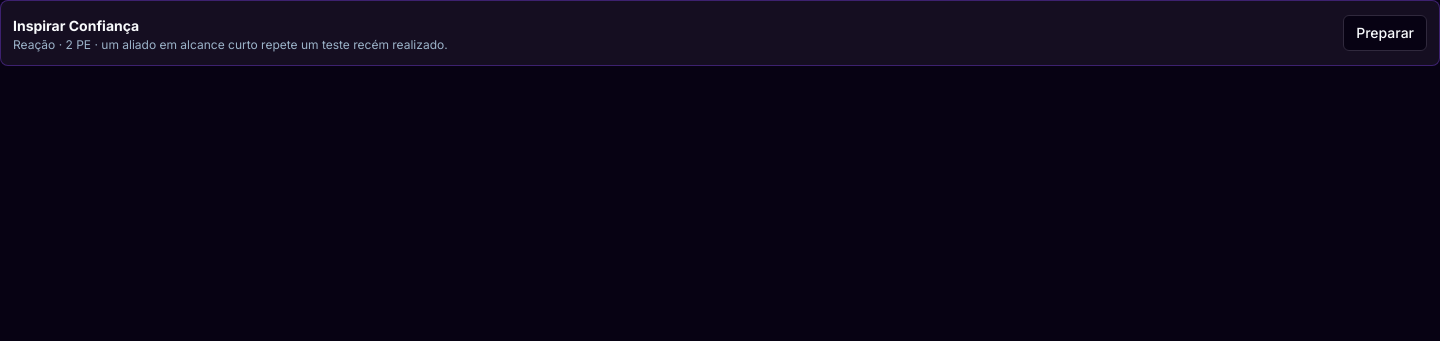
Scenario: Inspirar Confiança › exige teste, reação, alcance e oportunidade antes de pedir confirmação ao servidor
Later steps or results of the test are not shown.
Click the button "Preparar": (1385, 33) [1343,15,1427,51]
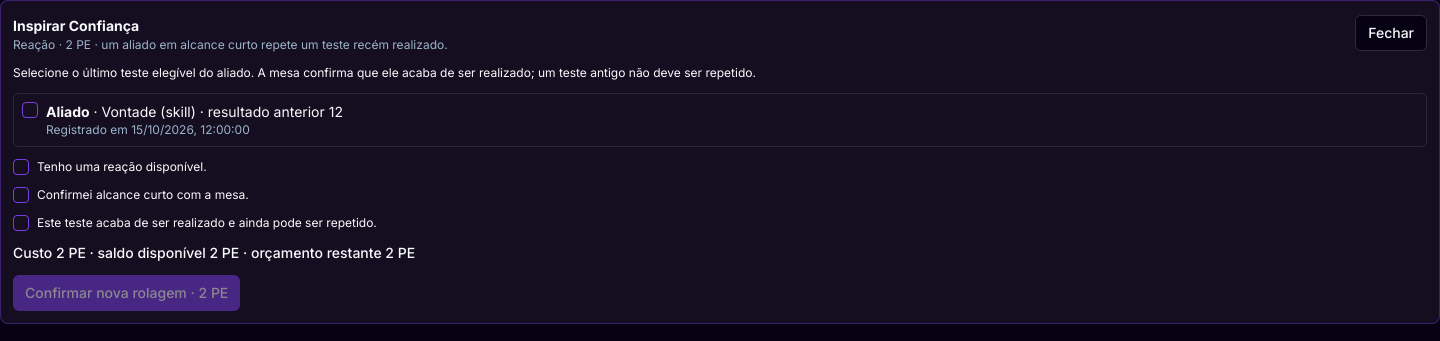
Now the button "Confirmar nova rolagem · 2 PE" is disabled, box [13,275,240,311]
Click the checkbox named "Selecionar teste de Aliado": (30, 110) [22,102,38,118]
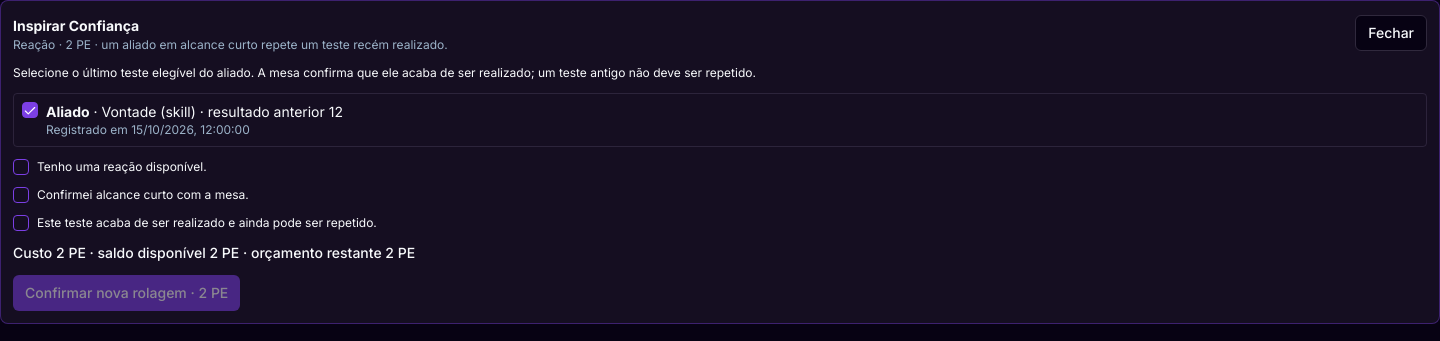
Click the text "Tenho uma reação disponível.": (110, 167) [13,159,207,175]
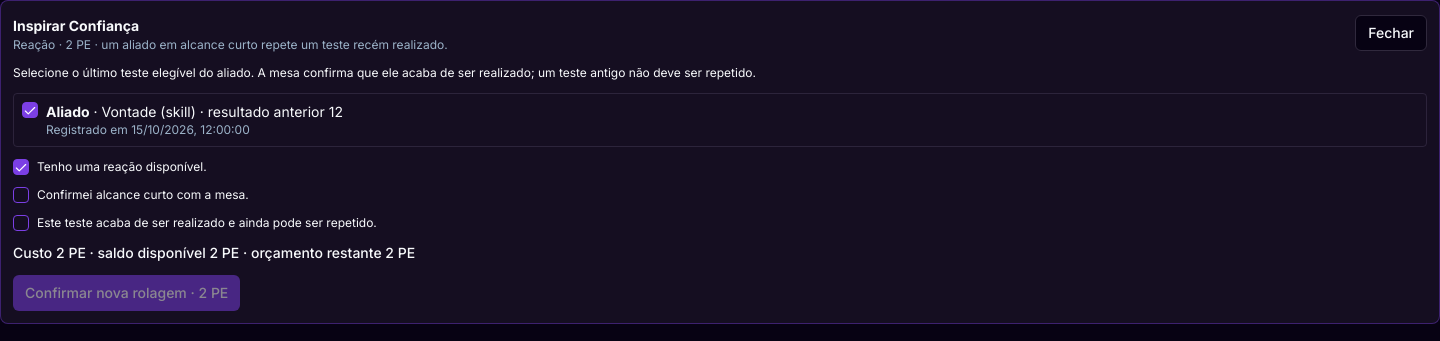
Click the text "Confirmei alcance curto com a mesa.": (131, 195) [13,187,249,203]
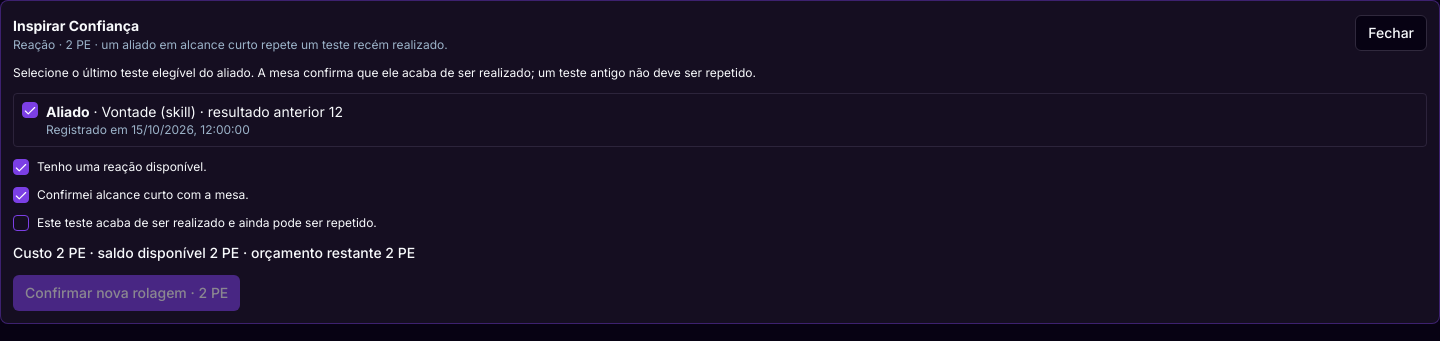
Now the button "Confirmar nova rolagem · 2 PE" is disabled, box [13,275,240,311]
